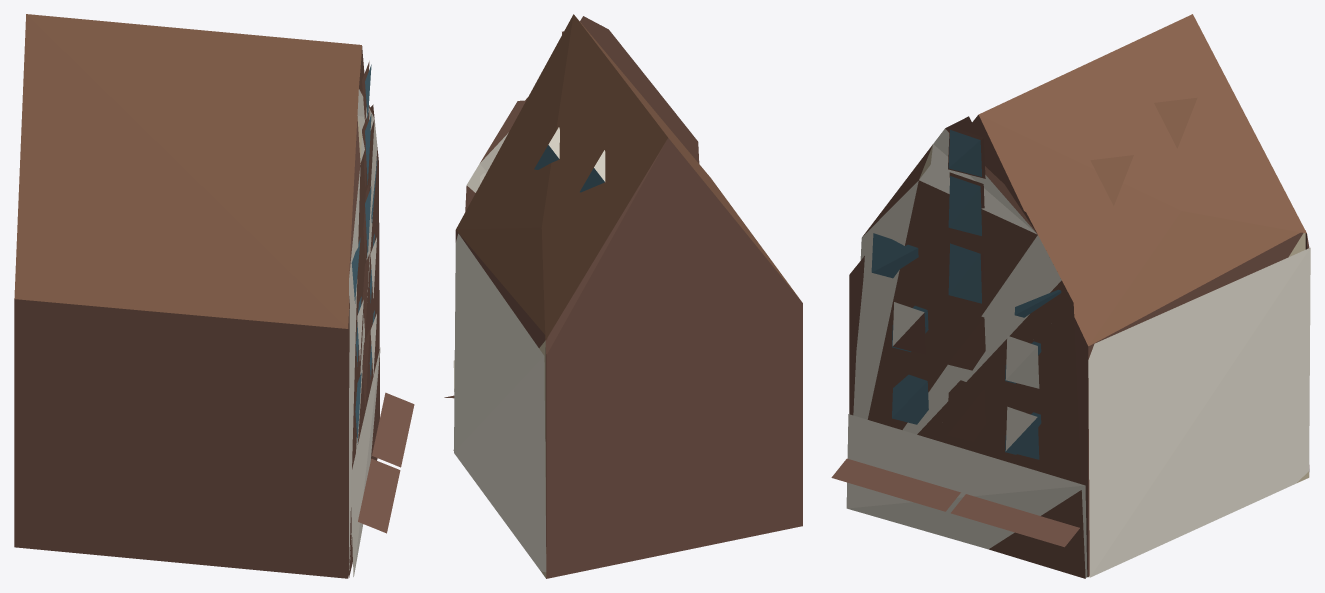
The model's file is cafe-kobalt.lod2.glb.
3 renders of one model, left to right at view 1: azimuth 30°, elevation 25°; view 2: azimuth 150°, elevation 25°; view 3: azimuth 270°, elevation 25°, orthographic. The views are drawn at different scales.
Visible parts, largest first — view 1: lod2; view 2: lod2; view 3: lod2.
Boxes of the visible parts, x1=… form: lod2: x1=14, y1=14, x2=414, y2=578; lod2: x1=444, y1=14, x2=802, y2=578; lod2: x1=831, y1=14, x2=1310, y2=578.
Size of the model in its own units: 16.45 by 18.19 by 18.35.
